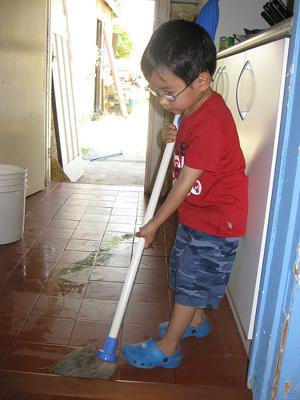person: (122, 20, 250, 372)
